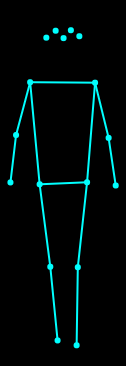mountain: (6, 25, 122, 350)
